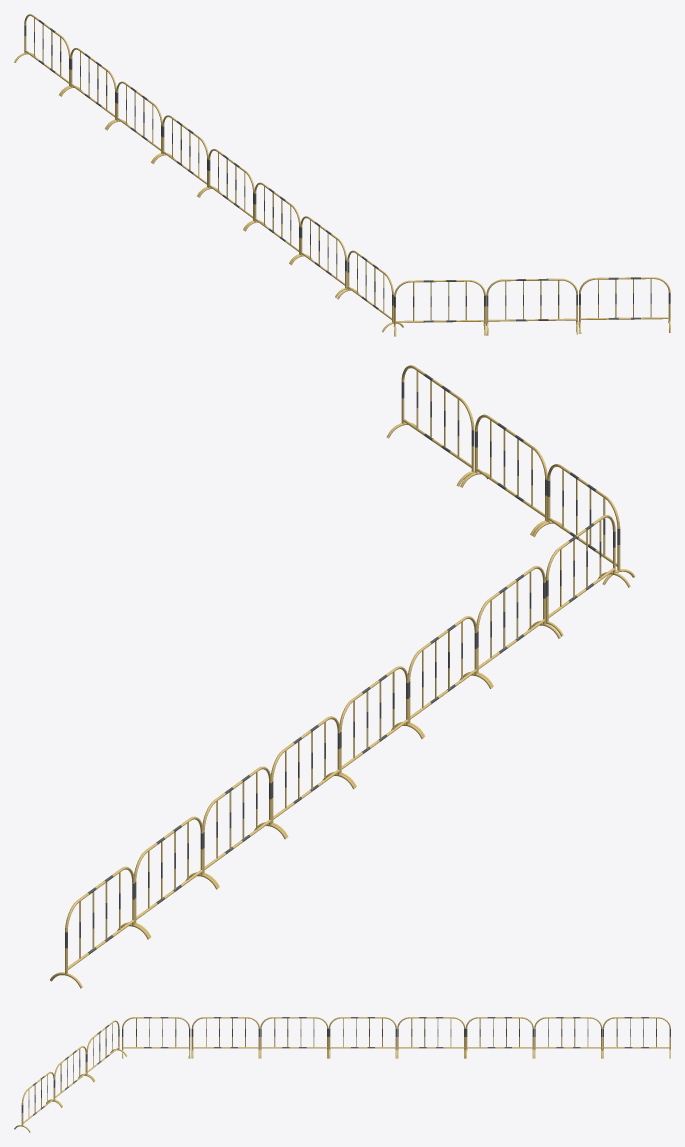
The picture shows the model from 3 angles, top to bottom: view 1: azimuth 30°, elevation 25°; view 2: azimuth 150°, elevation 25°; view 3: azimuth 270°, elevation 25°; orthographic projection. The views are drawn at different scales.
Parts seen in each view (by area): view 1: 栏杆-材质 (×2); view 2: 栏杆-材质 (×2); view 3: 栏杆-材质 (×2).
Boxes of the visible parts, x1,y1,x2,y2 form: 栏杆-材质 (×2): [14, 14, 670, 336]; 栏杆-材质 (×2): [50, 365, 635, 988]; 栏杆-材质 (×2): [14, 1017, 670, 1132].
Bounding box in the file's own units: 21.47 × 4.65 × 72.61.
